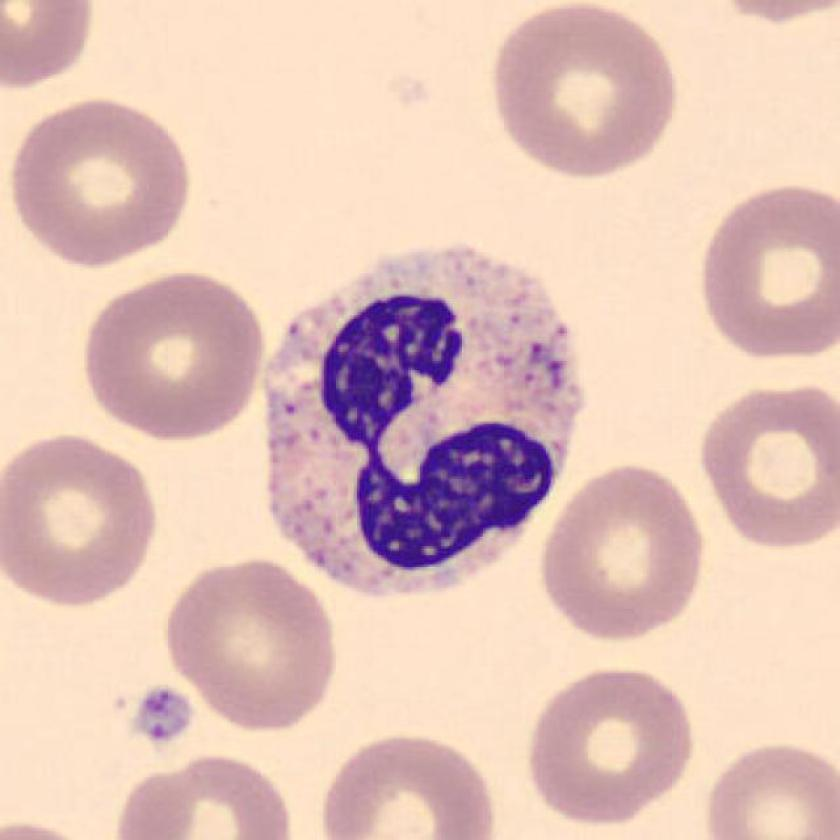neutrophil: (268, 245, 581, 596)
